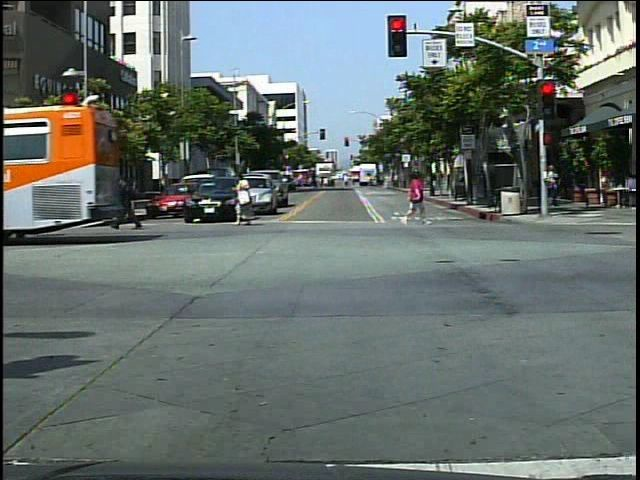person: (231, 166, 262, 230), (116, 170, 145, 236), (402, 166, 431, 230), (545, 161, 568, 212)
